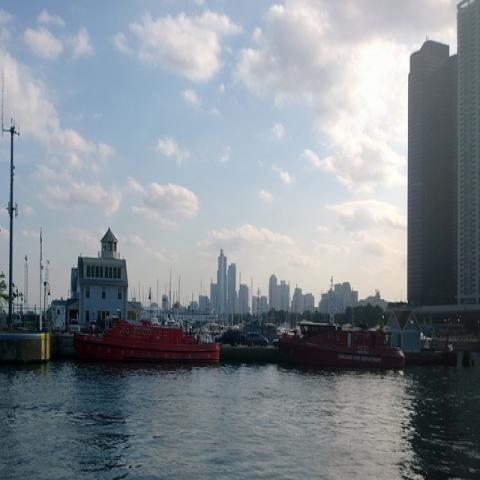car: (219, 330, 241, 348), (245, 332, 269, 347), (278, 332, 303, 346), (69, 320, 81, 334), (83, 322, 90, 333), (89, 320, 96, 330), (272, 339, 278, 348)
